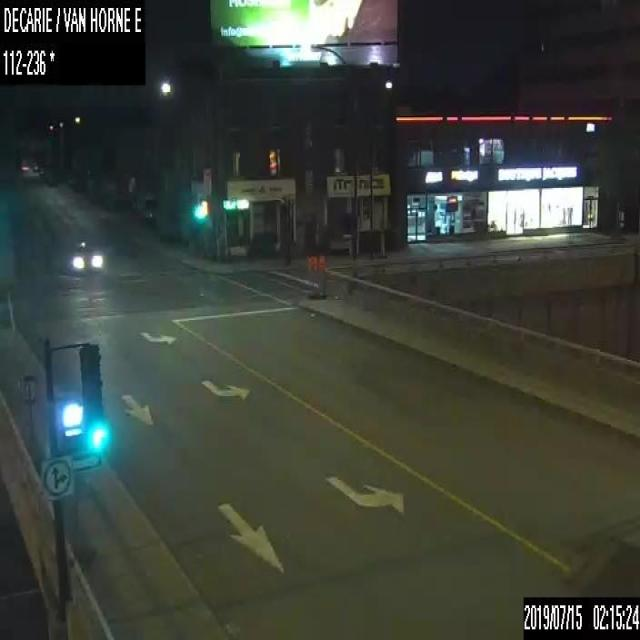construction: (17, 373, 40, 460), (306, 254, 317, 298), (315, 254, 326, 298)
vehicle: (67, 240, 104, 272), (136, 191, 158, 226)
